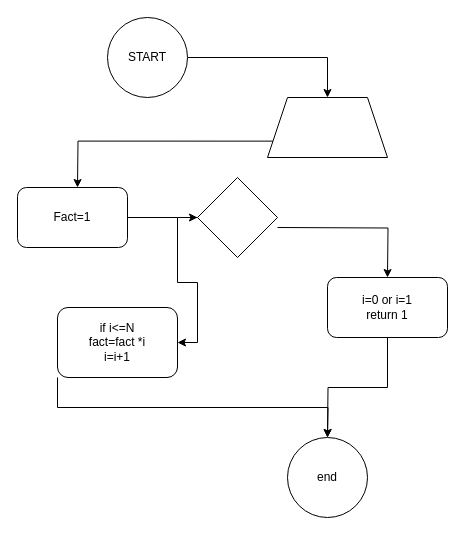
This 465x535 diagram has some shape labels left out. The centre of each missing label's shape, as x and y in pixels:
"i=1" goes at pixel 237 217.
"INPUT N" goes at pixel 327 127.
